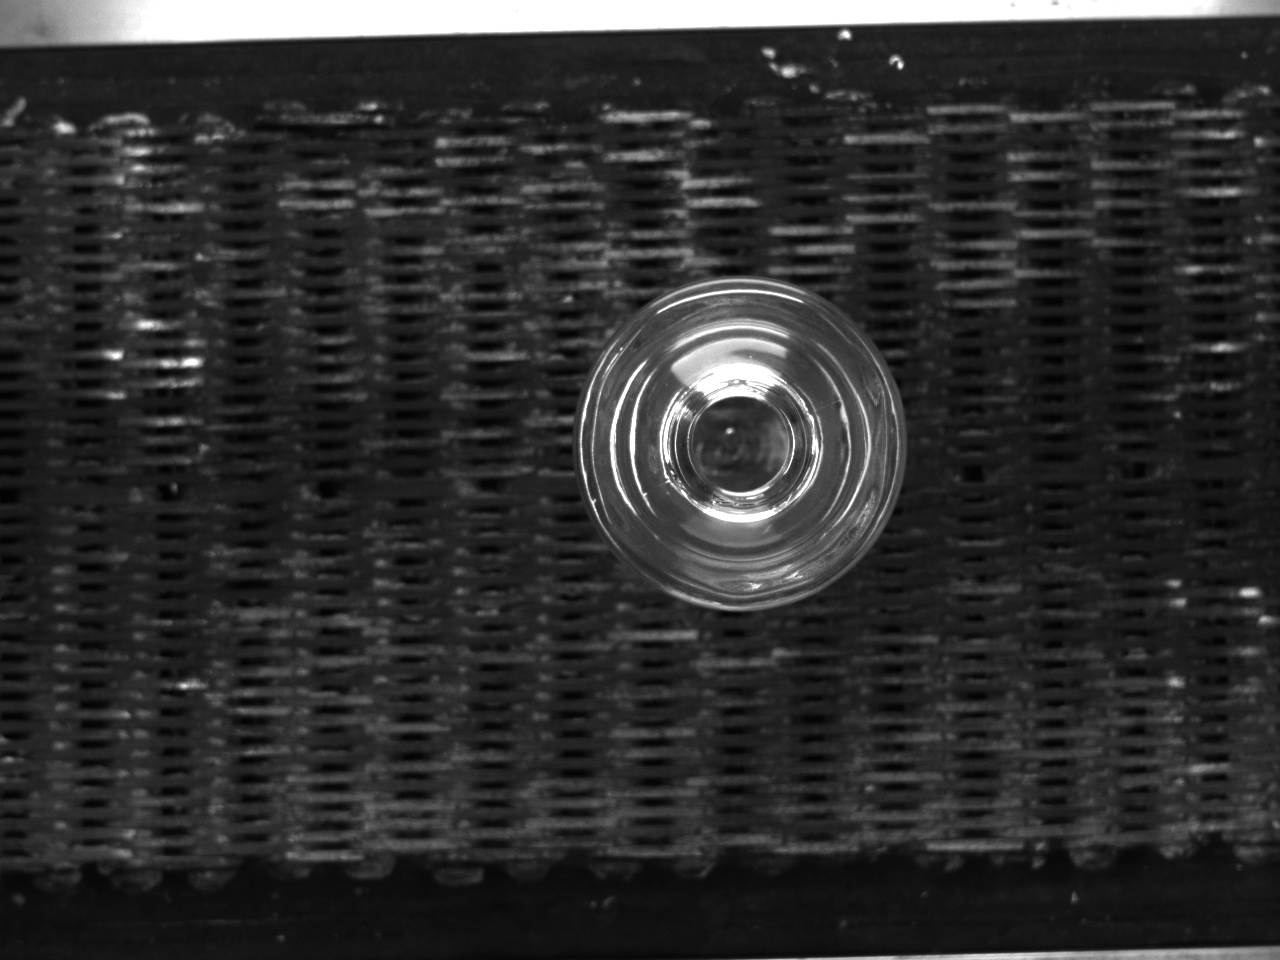bottleneck: (663, 364, 822, 521)
